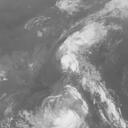cyclone: (46, 100, 81, 127)
